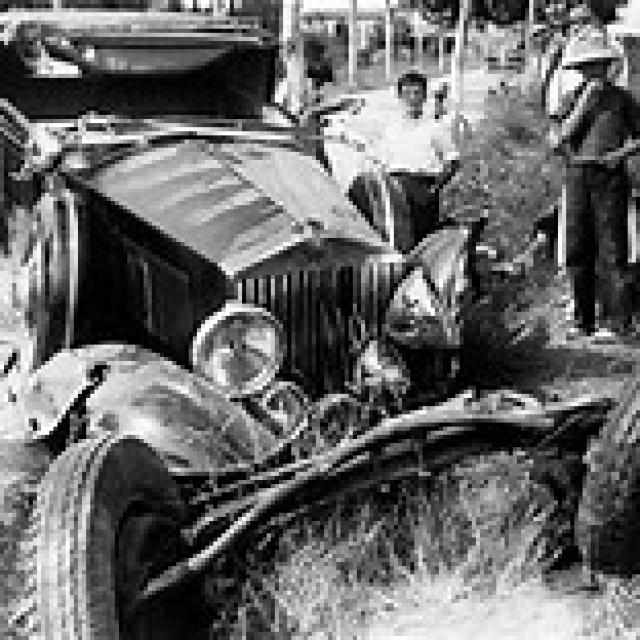Accident: (26, 56, 640, 640)
